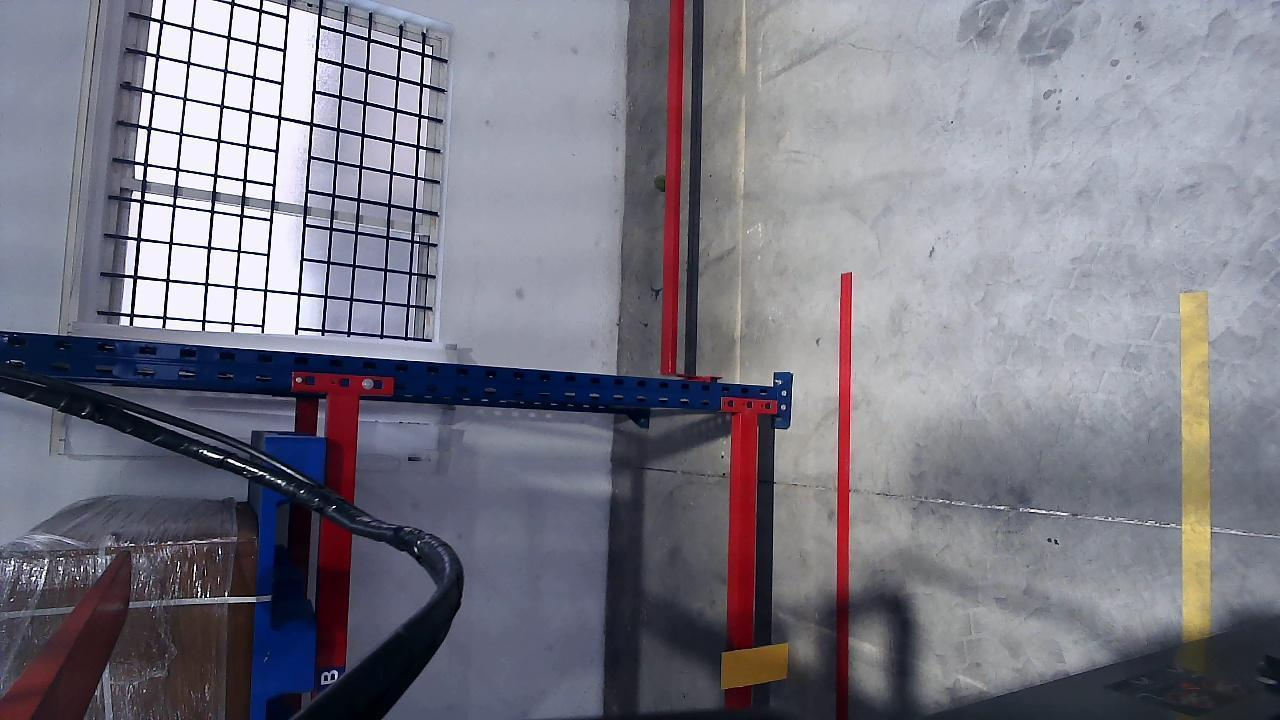red_line: (832, 273, 852, 719)
yellow_line: (1179, 298, 1211, 635)
